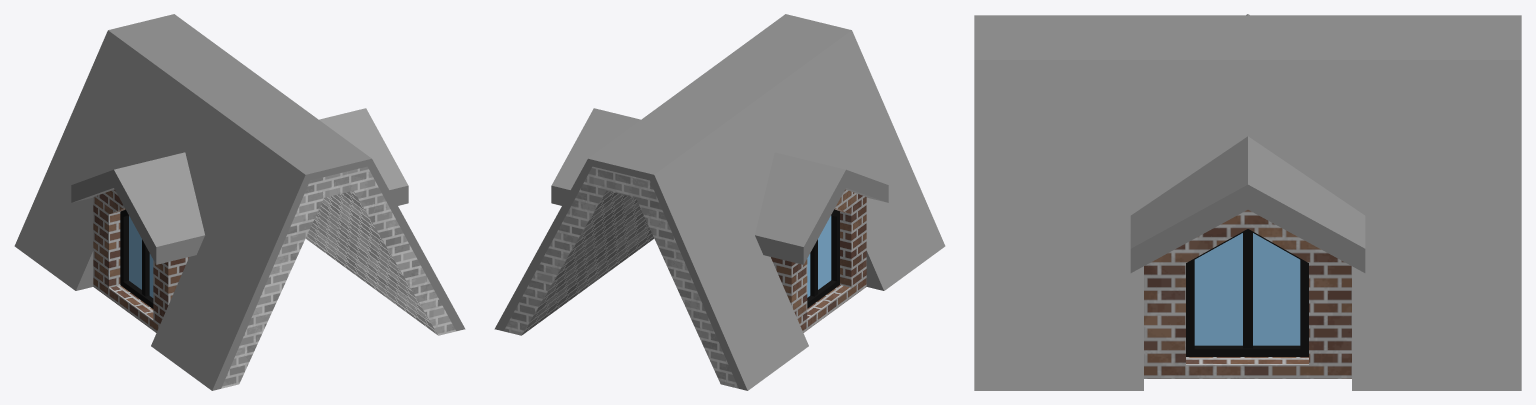
Rendered from Normal_Roof_003.FBX.
3 views of the same model, side by side, from view 1: azimuth 30°, elevation 25°; view 2: azimuth 150°, elevation 25°; view 3: azimuth 270°, elevation 25° (orthographic). The views are drawn at different scales.
Visible parts, largest first — view 1: Normal_Roof_003; view 2: Normal_Roof_003; view 3: Normal_Roof_003.
Part boxes in pixels (left/top/right/bottom): Normal_Roof_003: left=14, top=14, right=465, bottom=390; Normal_Roof_003: left=494, top=14, right=945, bottom=390; Normal_Roof_003: left=974, top=14, right=1521, bottom=390.
Bounding box in the file's own units: 370 × 500 × 270.
